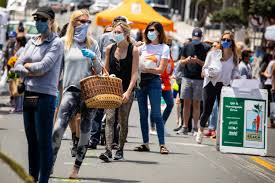with-mask: (71, 10, 92, 46), (30, 10, 56, 39), (112, 23, 129, 46), (144, 23, 162, 44), (220, 31, 234, 49), (190, 30, 202, 47), (242, 49, 254, 66)
